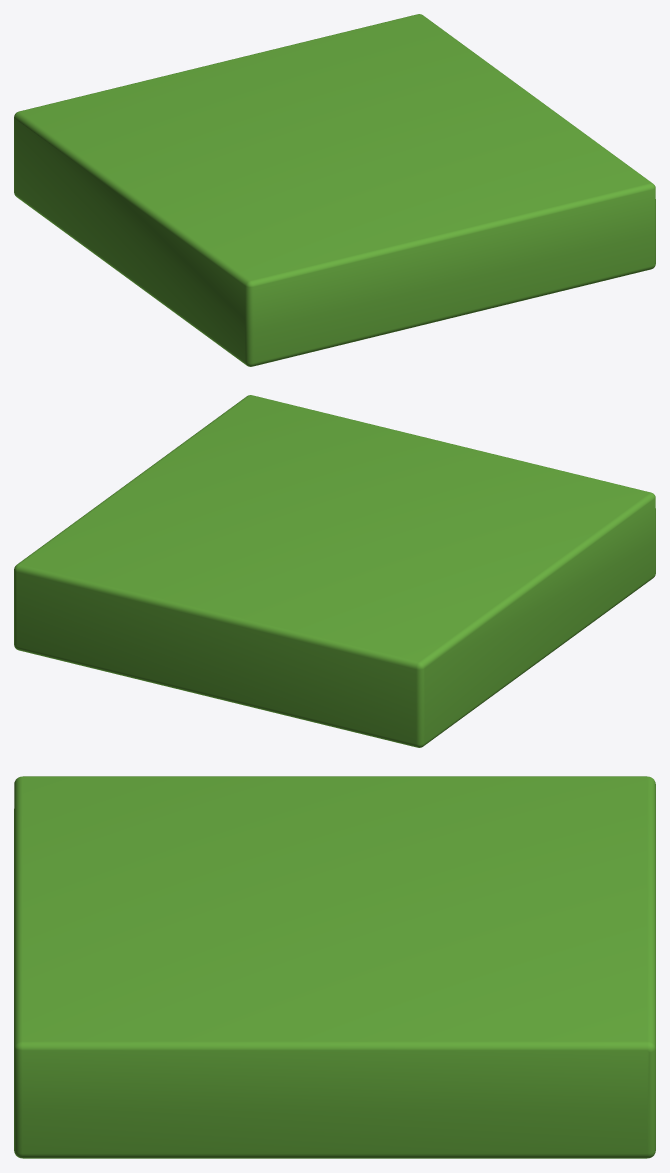
The model's file is block_blender.fbx.
3 views of the same model, one above another, from view 1: azimuth 30°, elevation 25°; view 2: azimuth 150°, elevation 25°; view 3: azimuth 270°, elevation 25° (orthographic). The views are drawn at different scales.
Parts seen in each view (by area): view 1: Block; view 2: Block; view 3: Block.
Boxes of the visible parts, x1,y1,x2,y2 form: Block: (14,14,655,366); Block: (14,395,655,747); Block: (14,776,655,1158).
Size of the model in its own units: 10 by 10 by 2.
